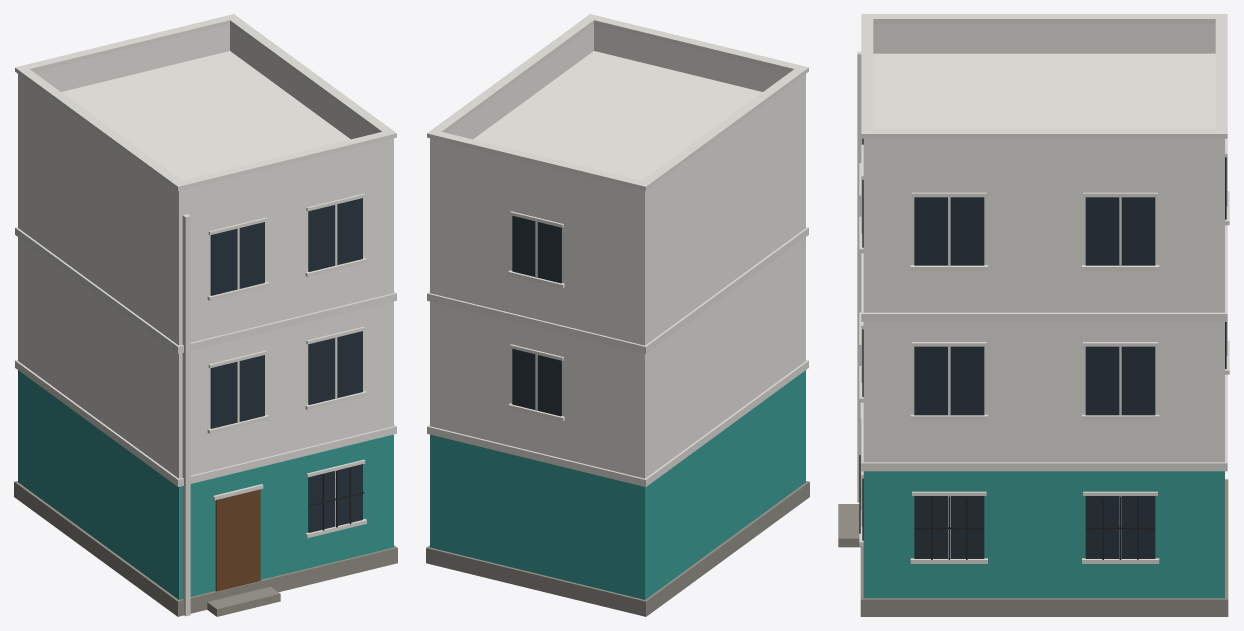
The model's file is BAY_F_Corner_K.glb.
The picture shows the model from 3 angles, left to right: view 1: azimuth 30°, elevation 25°; view 2: azimuth 150°, elevation 25°; view 3: azimuth 270°, elevation 25°; orthographic projection. The views are drawn at different scales.
Visible parts, largest first — view 1: BAY_F_Corner_K; view 2: BAY_F_Corner_K; view 3: BAY_F_Corner_K.
Boxes of the visible parts, left/top/right/bottom form: BAY_F_Corner_K: left=14, top=14, right=397, bottom=616; BAY_F_Corner_K: left=426, top=14, right=809, bottom=616; BAY_F_Corner_K: left=838, top=14, right=1229, bottom=616.
Size of the model in its own units: 4.52 by 8.4 by 6.17.
Materials: 1 (1 with a texture image).
